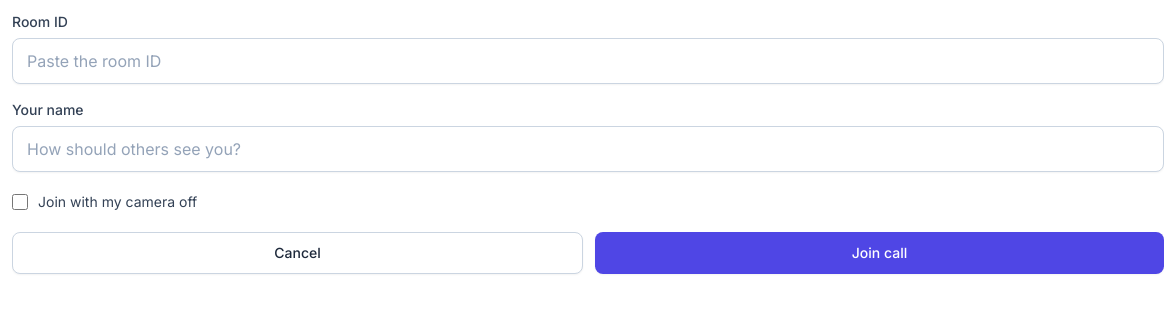
Test: JoinRoomContent › joining a call (guest) › explains a server that cannot be reached
The image size is (1176, 313).
Type "room" into the field labelled "Room ID" at (588, 61), box [12,38,1164,84]
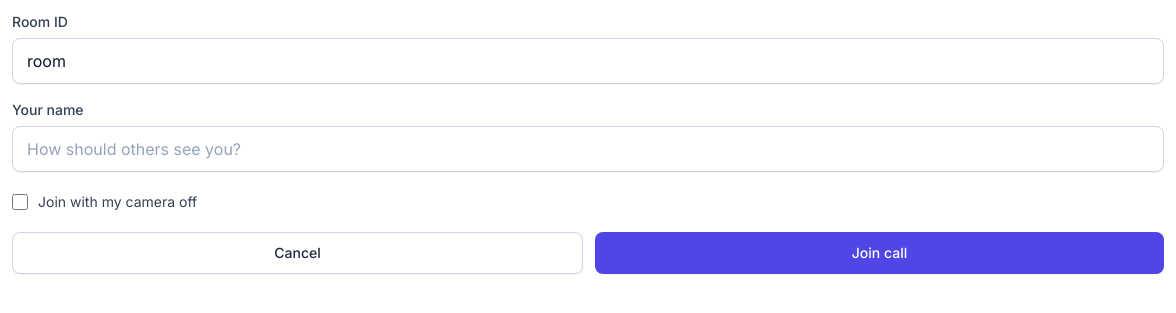
Type "Bob" into the field labelled "Your name" at (588, 149), box [12,126,1164,172]
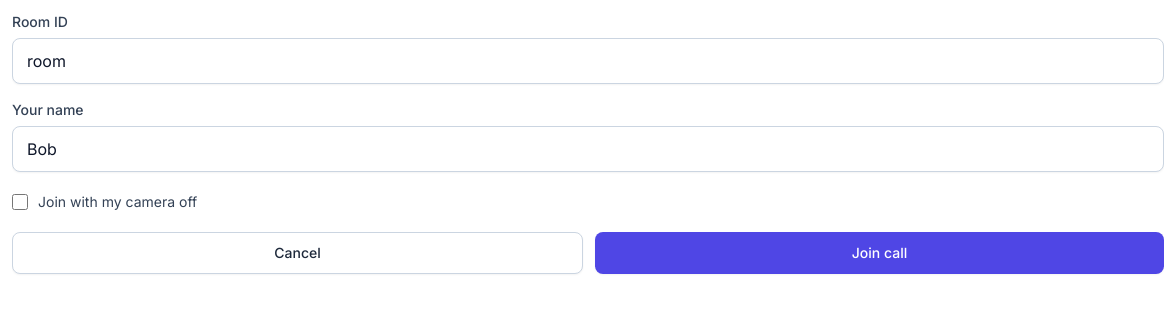
Click the button "Join call" at (880, 253), box [595,232,1164,274]
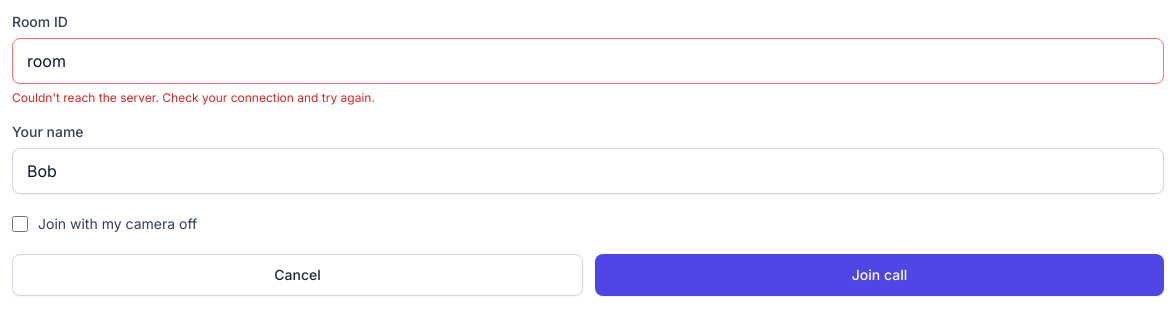
Result: the text "Couldn't reach the server" is shown at [12,90,375,105]
